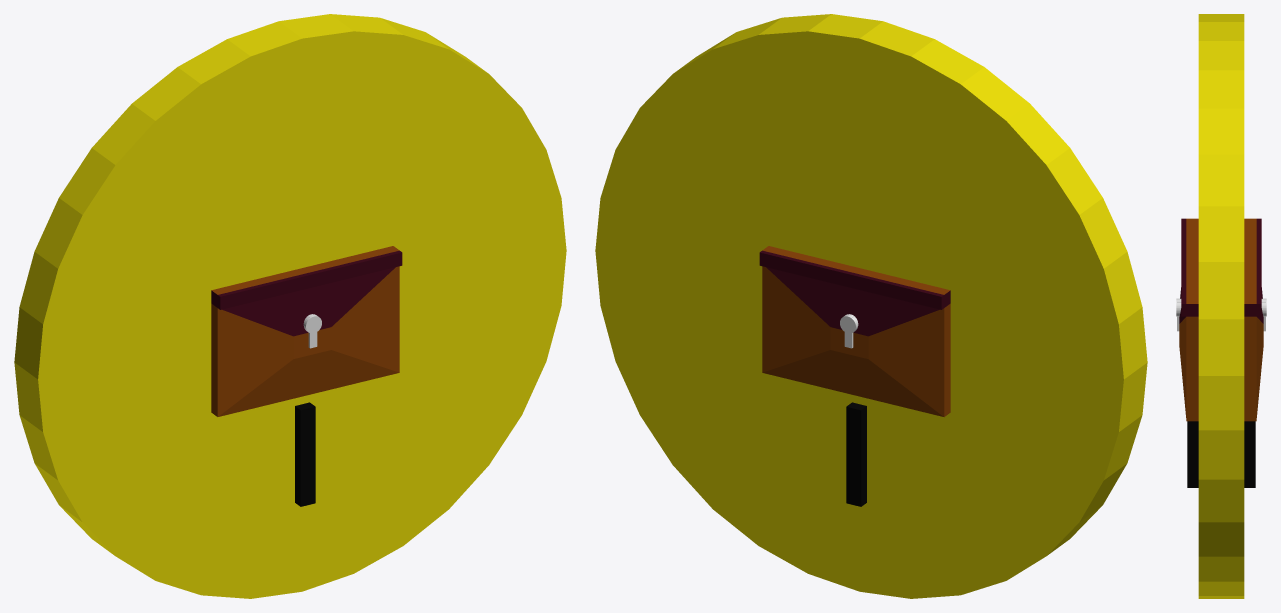
The model's file is LootRoom1.fbx.
3 views of the same model, side by side, from view 1: azimuth 30°, elevation 25°; view 2: azimuth 150°, elevation 25°; view 3: azimuth 270°, elevation 25° (orthographic). The views are drawn at different scales.
Visible parts, largest first — view 1: Cylinder, Cube, Cube.003; view 2: Cylinder, Cube, Cube.003; view 3: Cylinder, Cube, Cube.003, Cylinder.001.
Boxes of the visible parts, box(x1,y1,x2,y2) form: Cylinder: box(14, 14, 566, 598); Cube: box(211, 246, 402, 416); Cube.003: box(295, 402, 315, 506); Cylinder: box(595, 14, 1147, 598); Cube: box(759, 246, 950, 416); Cube.003: box(846, 402, 866, 506); Cylinder: box(1198, 14, 1244, 598); Cube: box(1179, 218, 1263, 421); Cube.003: box(1187, 421, 1255, 487); Cylinder.001: box(1176, 298, 1266, 316).
Bounding box in the file's own units: 200 × 200 × 30.91.
